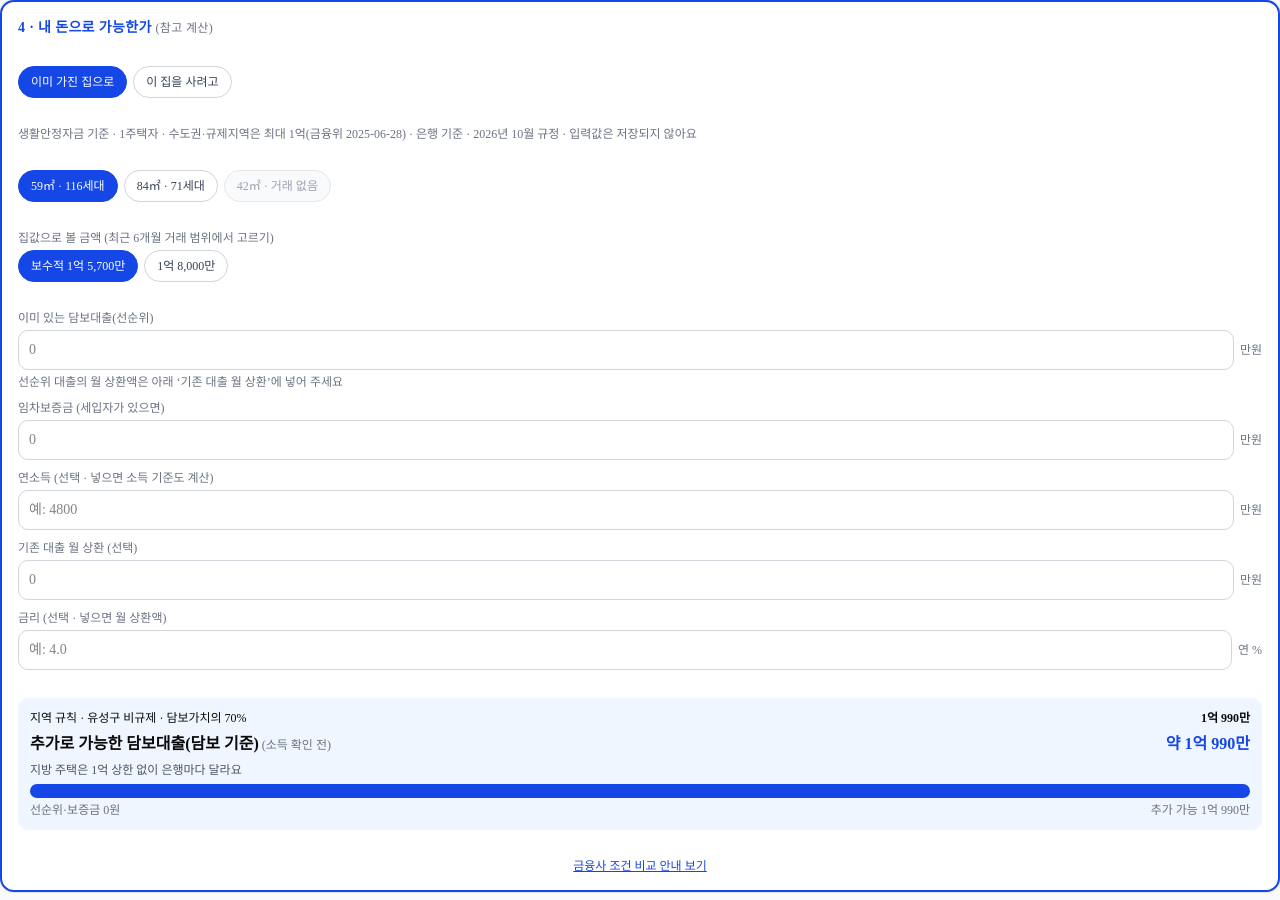
LoanEstimateSection — 이미 가진 집(기본) › 선순위가 한도보다 크면 '지금은 담보 여력이 없어요'
This screenshot has width=1280, height=900.
Step 1. Type "20000" into the field labelled "이미 있는 담보대출(선순위)" → (626, 350), box [18,330,1234,370]
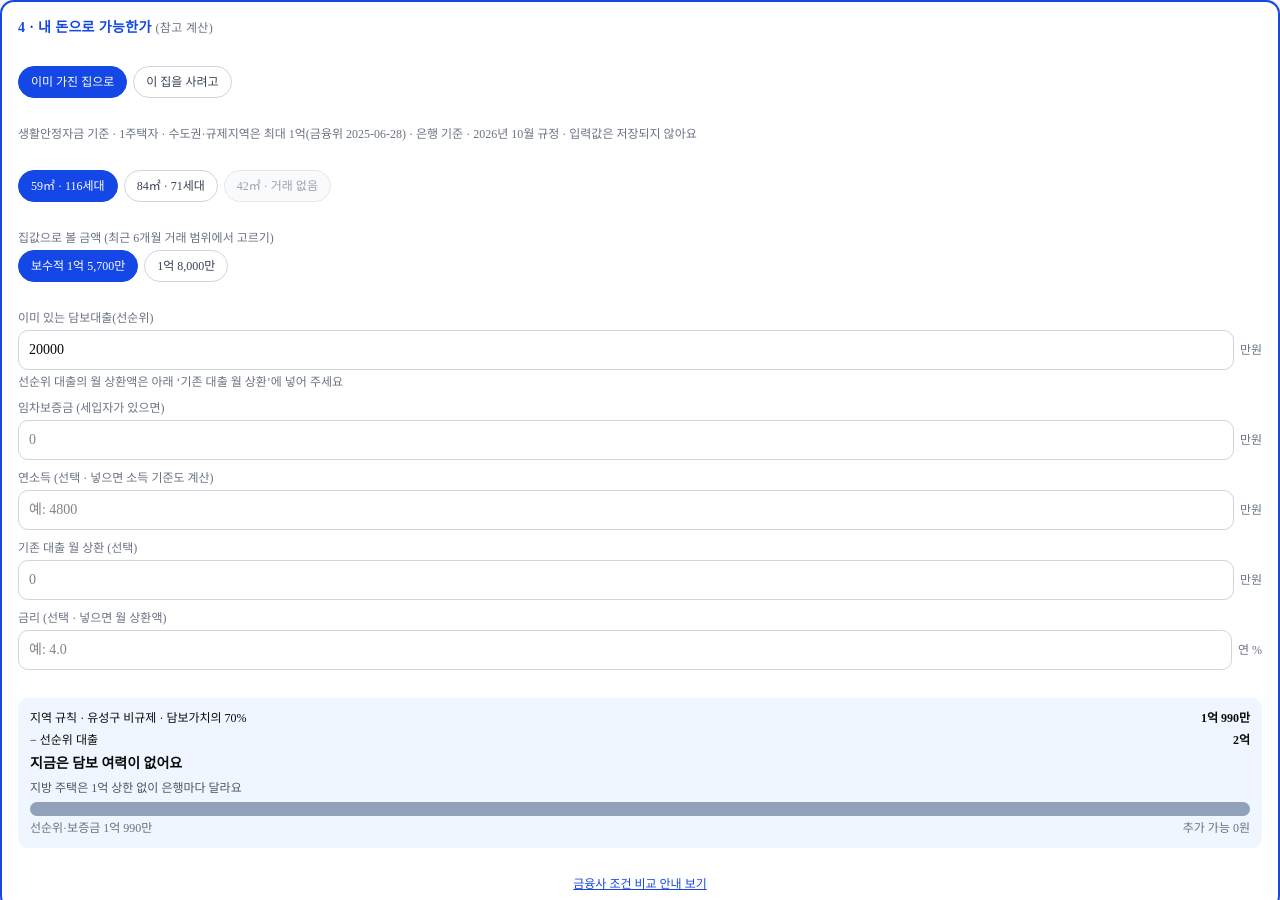
Expected: the text "지금은 담보 여력이 없어요" is shown, [30,756,182,771]
